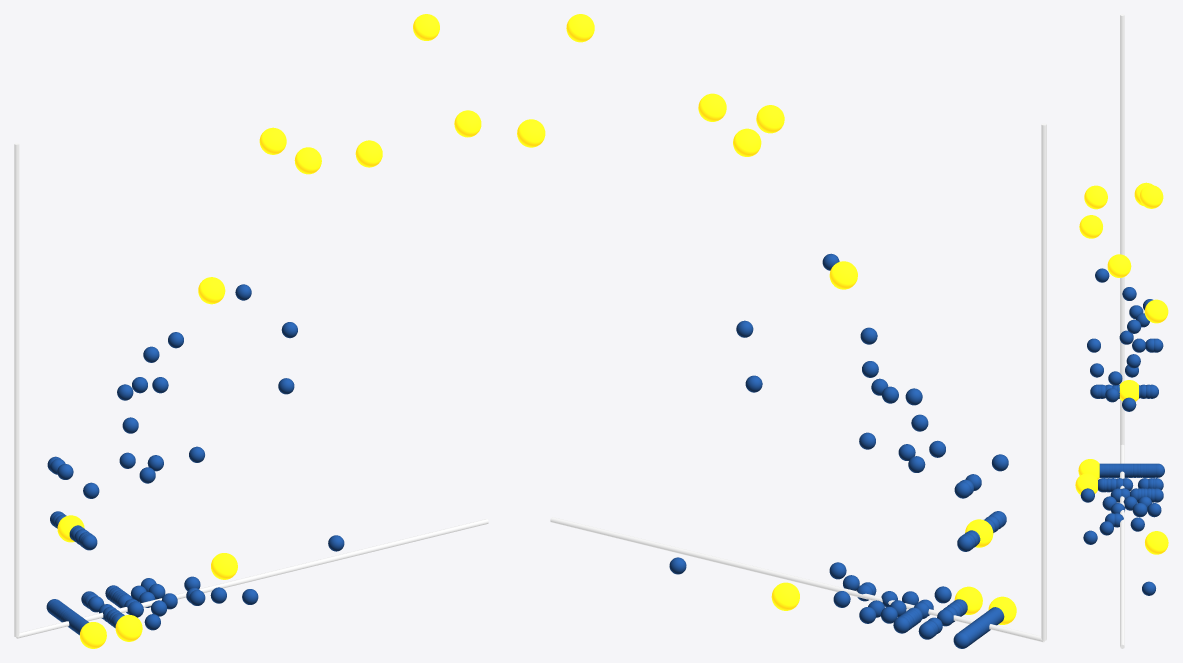
File: SocialAnalytics.glb
The picture shows the model from 3 angles, left to right: view 1: azimuth 30°, elevation 25°; view 2: azimuth 150°, elevation 25°; view 3: azimuth 270°, elevation 25°; orthographic projection. The views are drawn at different scales.
Visible parts, largest first — view 1: Y-Axis (Likes), X-Axis (Entries); view 2: Y-Axis (Likes), X-Axis (Entries); view 3: Y-Axis (Likes), X-Axis (Entries), participant_144, participant_163, participant_185, participant_187, participant_6, participant_100, participant_133, participant_23, participant_51, participant_26 (+16 smaller).
Part boxes in pixels (x1,y1,x2,y2): Y-Axis (Likes): (14,142,19,637); X-Axis (Entries): (16,519,488,638); Y-Axis (Likes): (1041,123,1046,640); X-Axis (Entries): (550,517,1044,642); Y-Axis (Likes): (1120,14,1124,445); X-Axis (Entries): (1120,444,1124,648); participant_144: (1144,299,1168,323); participant_163: (1139,185,1163,208); participant_185: (1084,185,1107,209); participant_187: (1107,254,1131,277); participant_6: (1145,531,1168,554); participant_100: (1079,215,1102,238); participant_133: (1075,473,1097,494); participant_23: (1119,380,1138,401); participant_51: (1078,459,1099,479); participant_26: (1108,371,1122,385).
Size of the model in its own units: 25.75 by 26.25 by 4.9.
